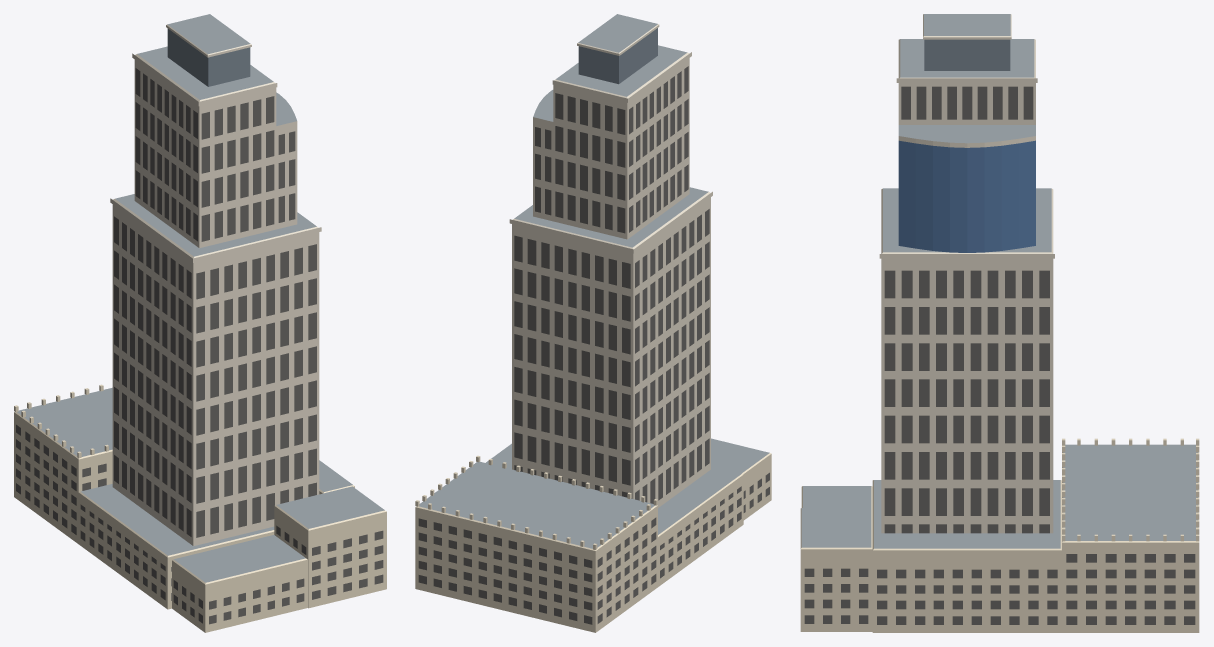
The model's file is sd-electra.glb.
3 views of the same model, side by side, from view 1: azimuth 30°, elevation 25°; view 2: azimuth 150°, elevation 25°; view 3: azimuth 270°, elevation 25° (orthographic). The views are drawn at different scales.
Parts seen in each view (by area): view 1: Electra; view 2: Electra; view 3: Electra.
Part boxes in pixels (x1,y1,x2,y2): Electra: [14, 14, 386, 632]; Electra: [415, 14, 771, 632]; Electra: [800, 14, 1199, 632].
Bounding box in the file's own units: 53.62 × 142 × 92.92.
